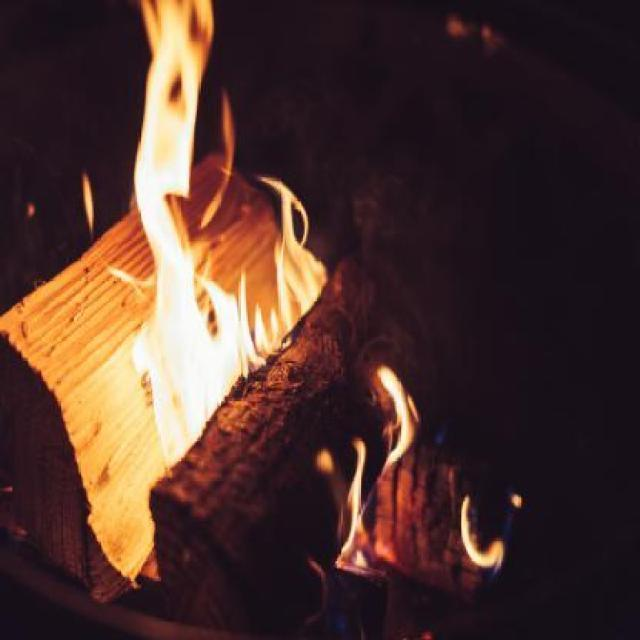Fire: (132, 0, 255, 458), (335, 367, 417, 569), (256, 176, 322, 354), (458, 492, 506, 568)
